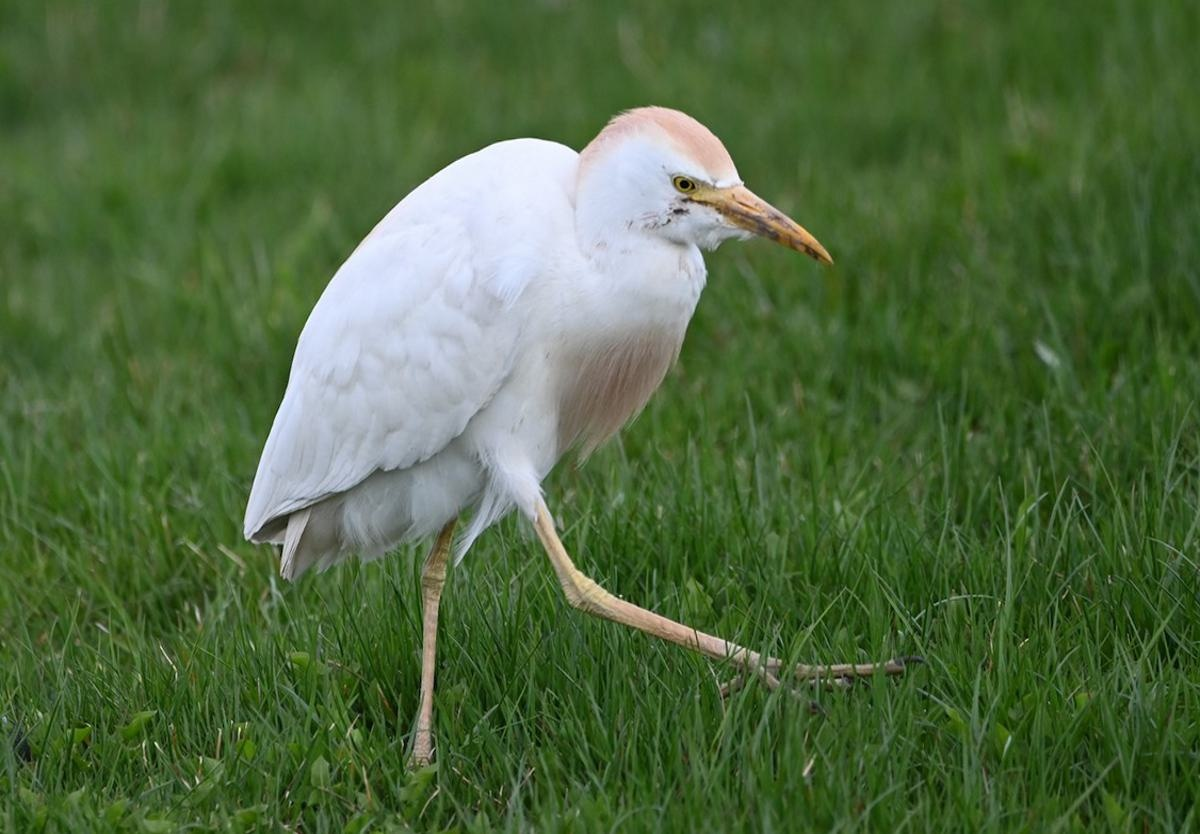egret: (246, 81, 828, 749)
